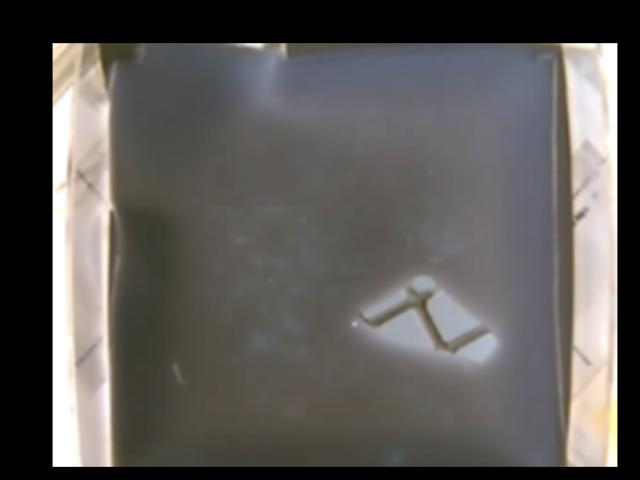China: (354, 274, 497, 363)
